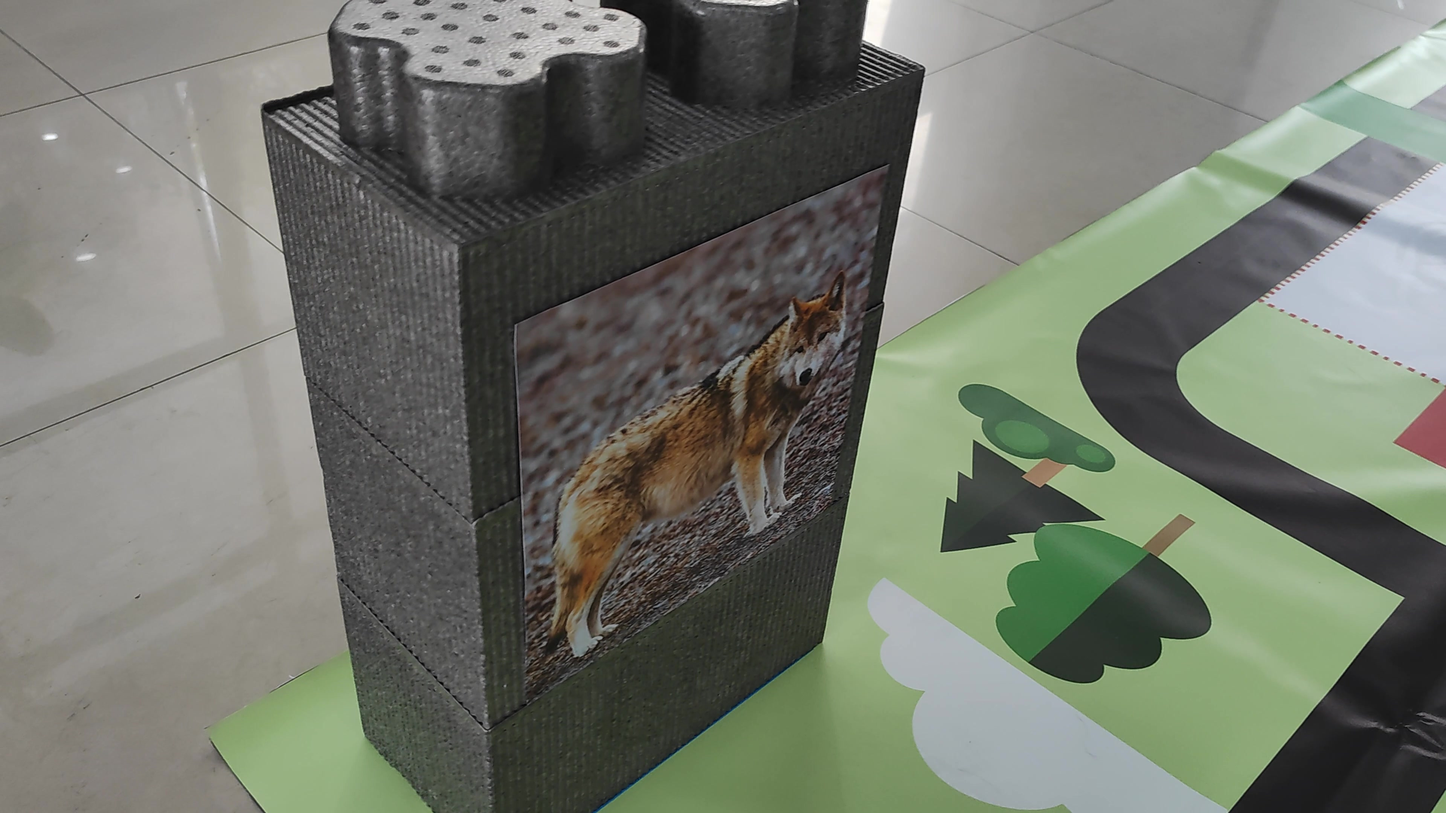wolf: (537, 276, 845, 664)
